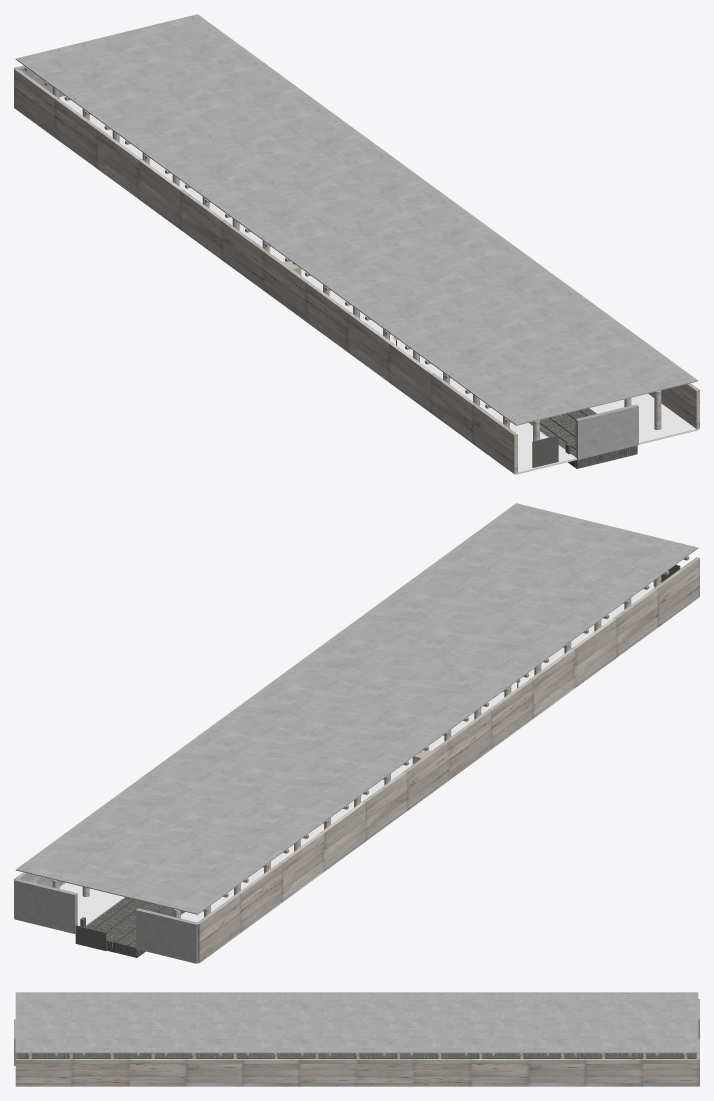
File: anden_baquedano_estacion.glb
3 renders of one model, top to bottom at view 1: azimuth 30°, elevation 25°; view 2: azimuth 150°, elevation 25°; view 3: azimuth 270°, elevation 25°, orthographic. The views are drawn at different scales.
Visible parts, largest first — view 1: Techo_Panel, Muro_Lateral_AndenA_Exterior, Piso_Anden_A, Muro_Norte_Vias, Piso_Anden_B, Foso_Vias, Muro_Lateral_AndenB_Exterior, Reja_Escalera_Norte; view 2: Techo_Panel, Muro_Lateral_AndenA_Exterior, Piso_Anden_A, Muro_Sur_AndenB, Muro_Sur_AndenA, Foso_Vias, Piso_Anden_B; view 3: Techo_Panel, Muro_Lateral_AndenB_Exterior, Foso_Vias, Riel_Via2_A.
Part boxes in pixels (x1,y1,x2,y2): Techo_Panel: (15, 14, 698, 425); Muro_Lateral_AndenA_Exterior: (14, 68, 517, 474); Piso_Anden_A: (59, 96, 576, 474); Muro_Norte_Vias: (575, 404, 638, 459); Piso_Anden_B: (588, 393, 697, 444); Foso_Vias: (529, 408, 637, 468); Muro_Lateral_AndenB_Exterior: (648, 383, 699, 429); Reja_Escalera_Norte: (532, 435, 558, 467); Techo_Panel: (15, 503, 698, 914); Muro_Lateral_AndenA_Exterior: (196, 557, 699, 963); Piso_Anden_A: (181, 584, 654, 963); Muro_Sur_AndenB: (14, 878, 77, 933); Muro_Sur_AndenA: (136, 908, 198, 963); Foso_Vias: (85, 897, 184, 957); Piso_Anden_B: (59, 882, 125, 925); Techo_Panel: (15, 992, 698, 1053); Muro_Lateral_AndenB_Exterior: (15, 1059, 698, 1086); Foso_Vias: (17, 1053, 696, 1057); Riel_Via2_A: (17, 1058, 696, 1058).
Bounding box in the file's own units: 21.4 × 6.5 × 100.
22 materials, 8 textured.
